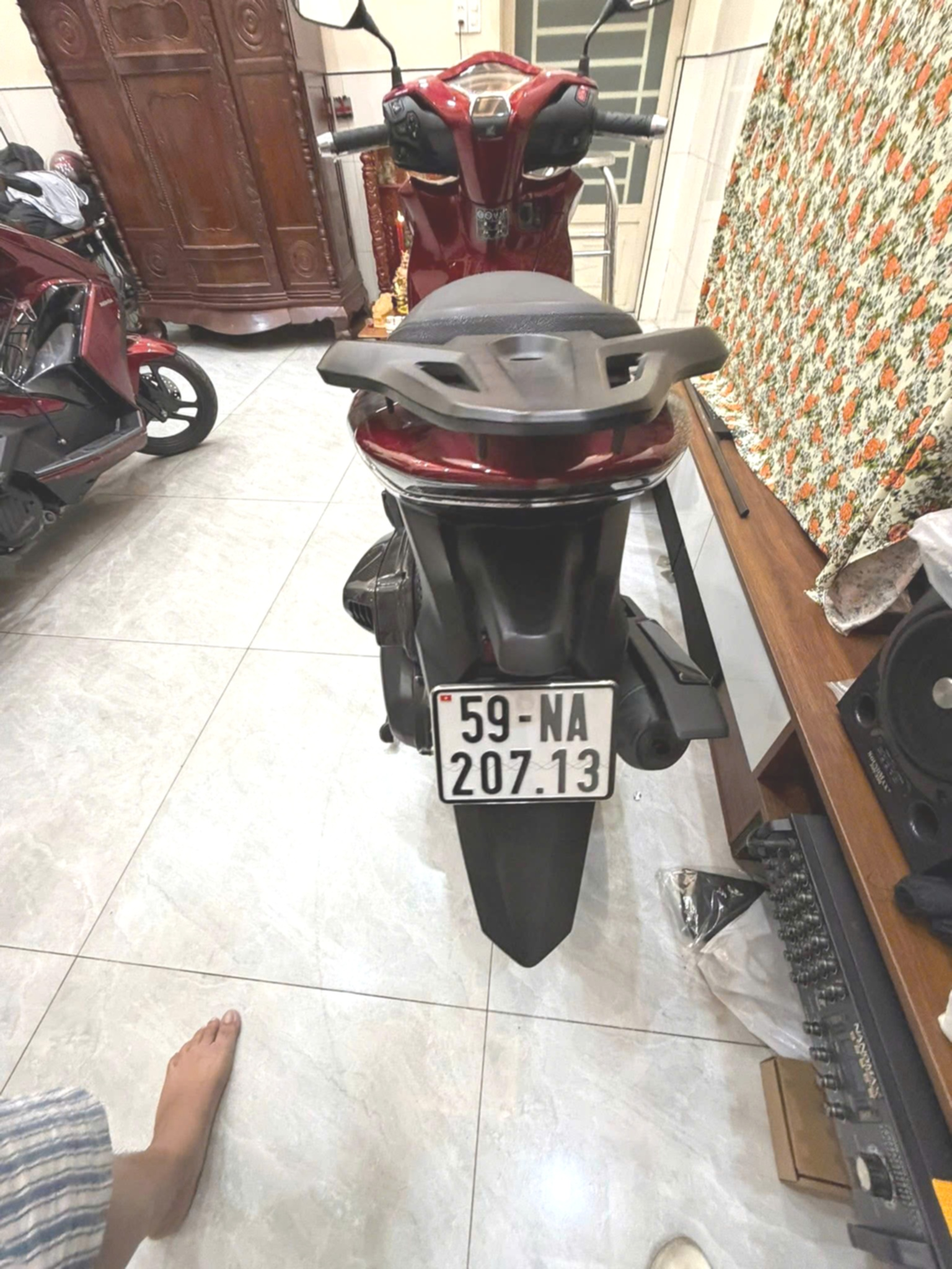Bien-so: (441, 652, 629, 778)
